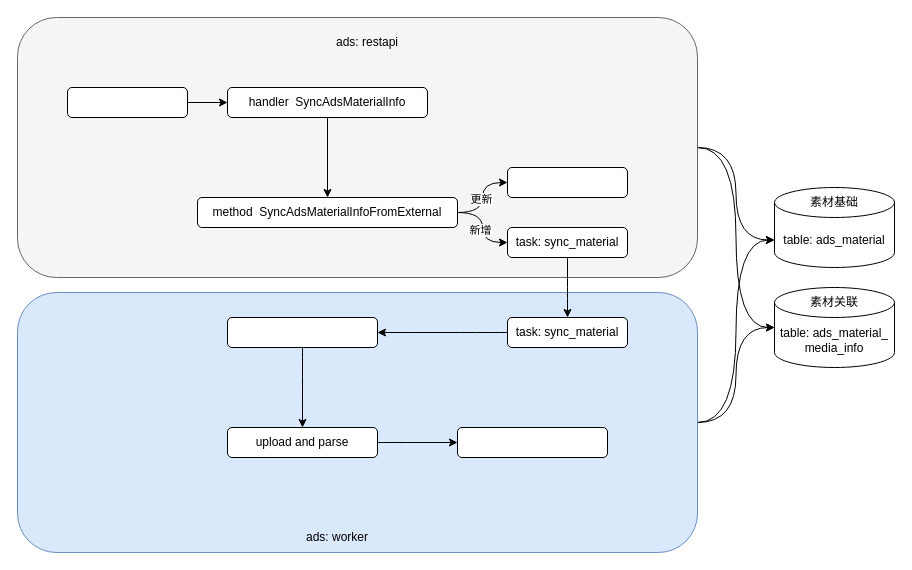
Image size: 912x570. Some labels were removed from this diagram. The centre of each missing label's shape, as x and y in pixels:
router: /sync: (127,102)
SyncAdsMaterialProcess: (302,332)
upsert material: (567,182)
upsert 关联关系: (532,442)
